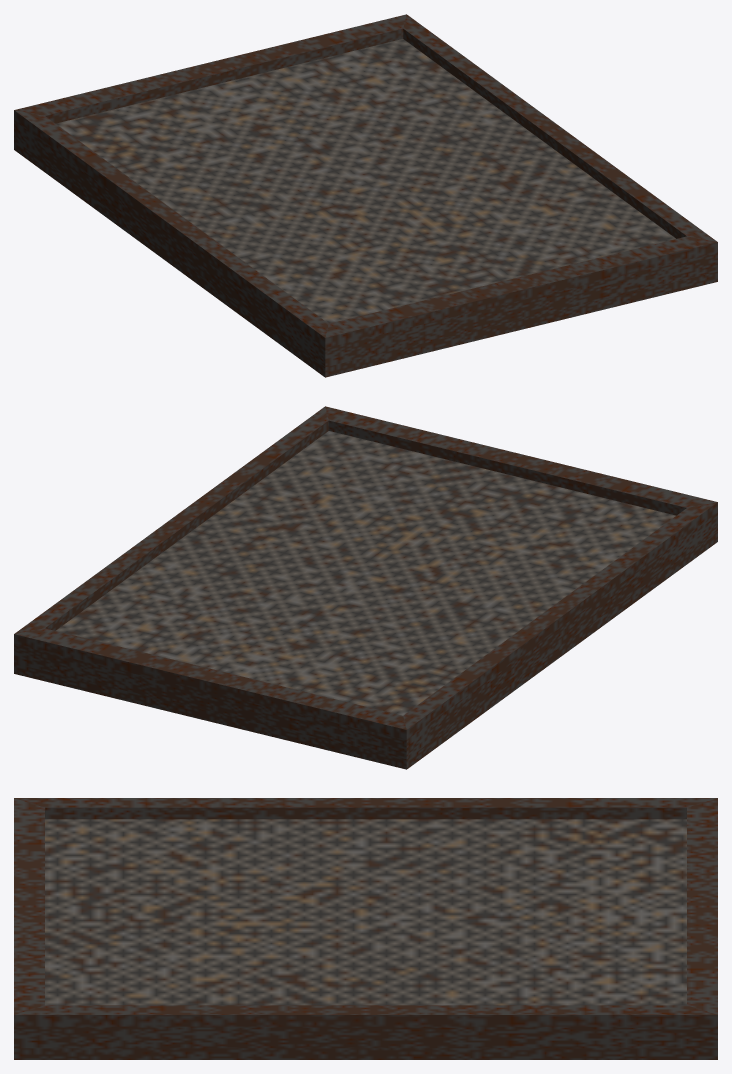
File: MetalPlatform.fbx
The picture shows the model from 3 angles, top to bottom: view 1: azimuth 30°, elevation 25°; view 2: azimuth 150°, elevation 25°; view 3: azimuth 270°, elevation 25°; orthographic projection. The views are drawn at different scales.
Visible parts, largest first — view 1: Cube; view 2: Cube; view 3: Cube.
Boxes of the visible parts, x1,y1,x2,y2 form: Cube: [14, 14, 717, 377]; Cube: [14, 406, 717, 769]; Cube: [14, 798, 717, 1059].
Size of the model in its own units: 219 by 21.18 by 301.
Materials: 1 (1 with a texture image).
